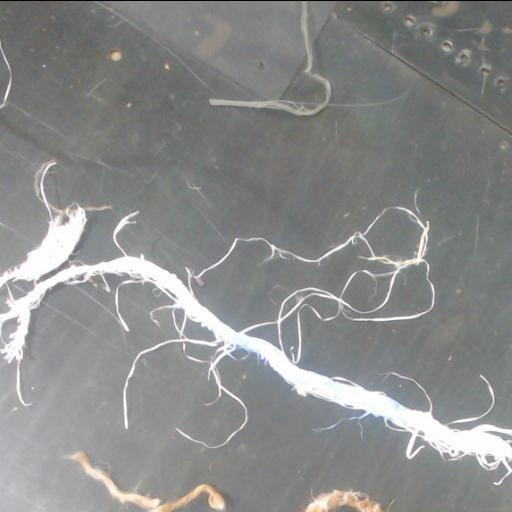conveyor belt: (0, 1, 511, 427), (0, 275, 511, 512), (195, 243, 387, 328)
jute: (210, 1, 379, 115), (67, 452, 226, 512), (304, 490, 386, 512), (0, 39, 12, 108)
thread: (0, 161, 511, 483)
